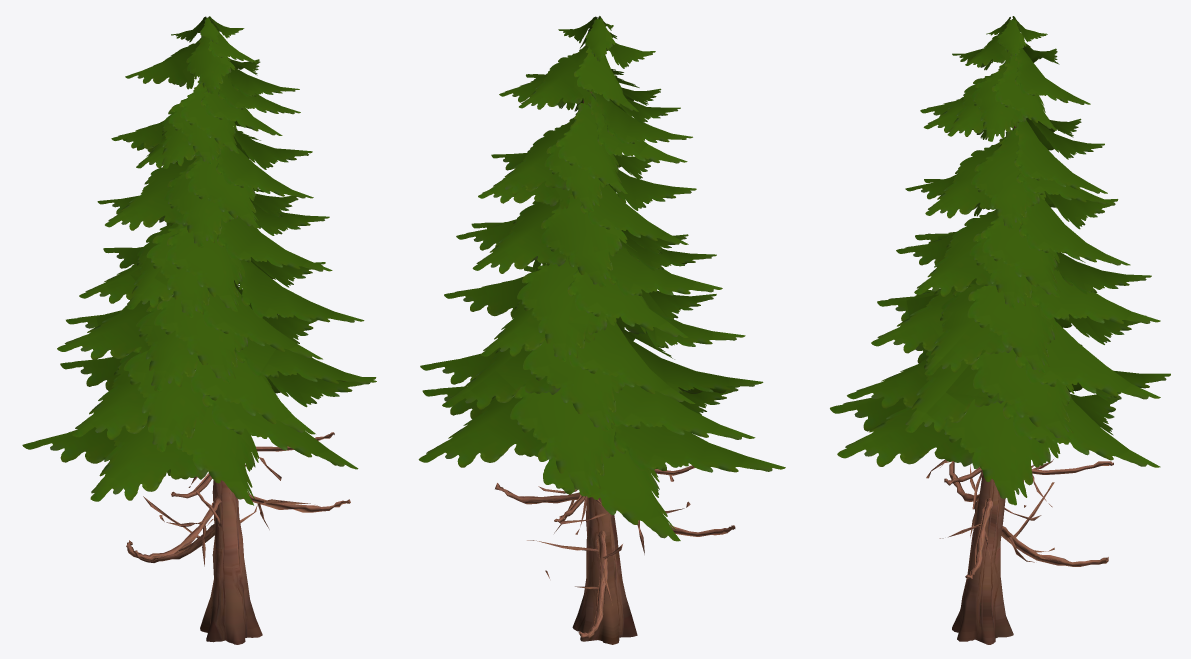
Rendered from Pine_Ghibli_02.glb.
The picture shows the model from 3 angles, left to right: view 1: azimuth 30°, elevation 25°; view 2: azimuth 150°, elevation 25°; view 3: azimuth 270°, elevation 25°; orthographic projection. The views are drawn at different scales.
Visible parts, largest first — view 1: Pine_4; view 2: Pine_4; view 3: Pine_4.
Part boxes in pixels (x1,y1,x2,y2): Pine_4: [22, 16, 376, 644]; Pine_4: [418, 16, 785, 644]; Pine_4: [830, 16, 1170, 644].
Size of the model in its own units: 5.81 by 10.24 by 5.37.
Materials: 2 (2 with a texture image).
